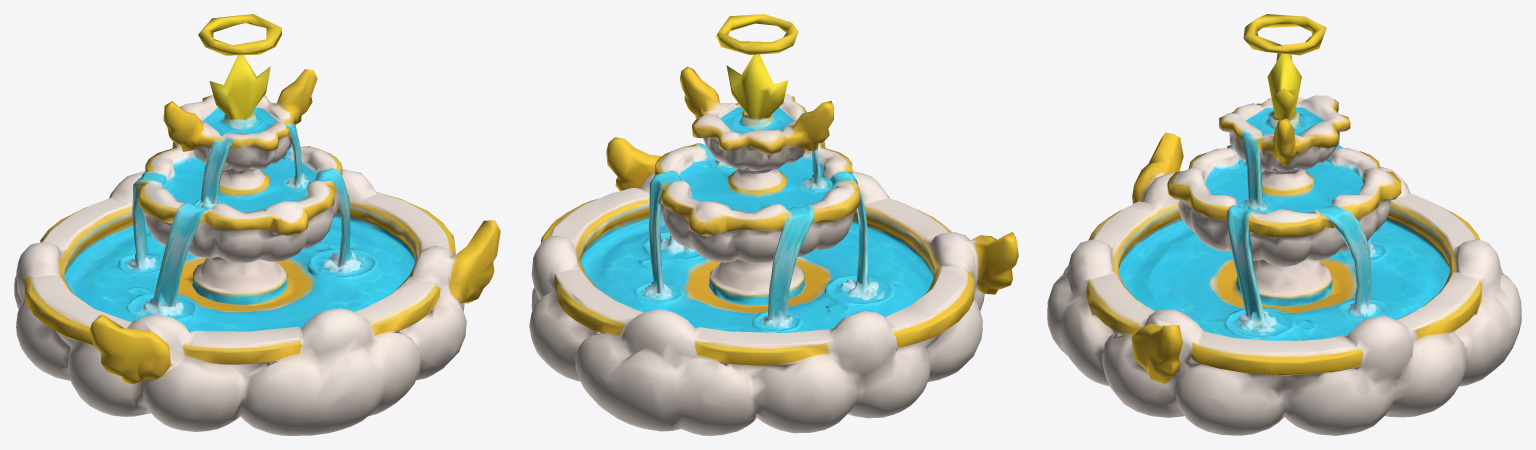
The model's file is Town_Halo_Fountain_HD.glb.
The picture shows the model from 3 angles, left to right: view 1: azimuth 30°, elevation 25°; view 2: azimuth 150°, elevation 25°; view 3: azimuth 270°, elevation 25°; orthographic projection.
Parts seen in each view (by area): view 1: tripo_node_d9d6a0d1-c33f-401a-981b-85c6c0c6274a; view 2: tripo_node_d9d6a0d1-c33f-401a-981b-85c6c0c6274a; view 3: tripo_node_d9d6a0d1-c33f-401a-981b-85c6c0c6274a.
Boxes of the visible parts, x1,y1,x2,y2 form: tripo_node_d9d6a0d1-c33f-401a-981b-85c6c0c6274a: [14, 14, 500, 435]; tripo_node_d9d6a0d1-c33f-401a-981b-85c6c0c6274a: [529, 14, 1018, 435]; tripo_node_d9d6a0d1-c33f-401a-981b-85c6c0c6274a: [1047, 14, 1521, 435].
Size of the model in its own units: 0.9802 by 0.7599 by 0.9777.
1 material, 1 textured.
